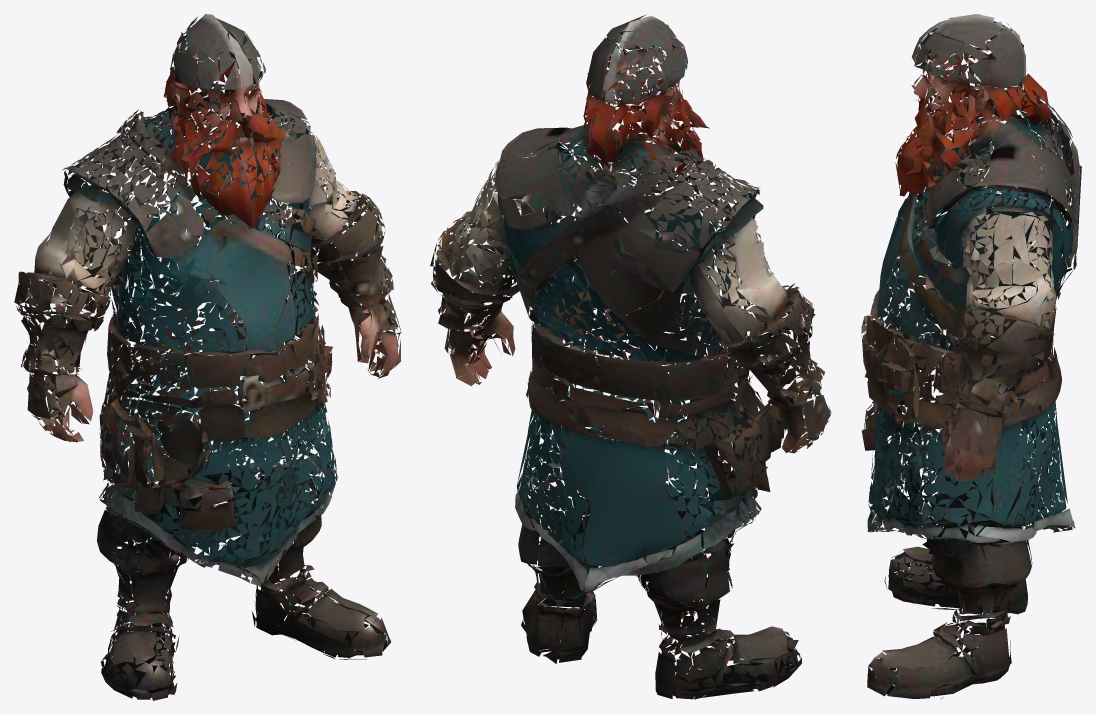
The model's file is dwarf.glb.
3 views of the same model, side by side, from view 1: azimuth 30°, elevation 25°; view 2: azimuth 150°, elevation 25°; view 3: azimuth 270°, elevation 25° (orthographic). The views are drawn at different scales.
Parts seen in each view (by area): view 1: reference; view 2: reference; view 3: reference.
Boxes of the visible parts, box(x1,y1,x2,y2) form: reference: box(14, 14, 401, 700); reference: box(430, 14, 831, 699); reference: box(861, 14, 1081, 699).
Bounding box in the file's own units: 0.7882 × 1.3 × 0.4169.
1 material, 1 textured.
